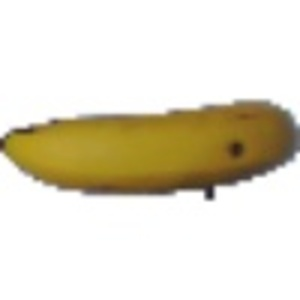banana: (2, 95, 295, 190)
